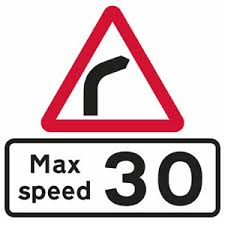Bend_to_right: (38, 5, 186, 133)
